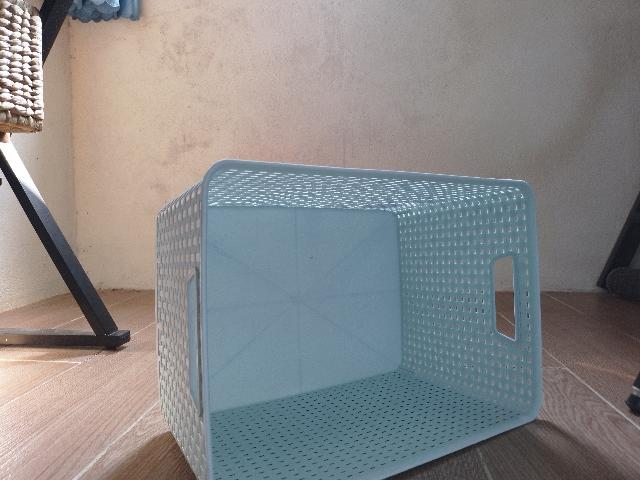cart: (155, 159, 542, 480)
